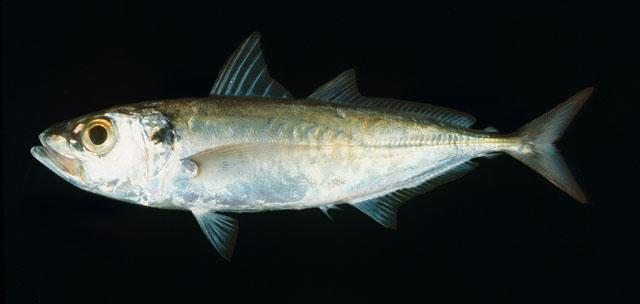Mulut: (19, 117, 67, 189)
Sirip Anal: (352, 155, 482, 231)
Sirip Dada: (178, 132, 310, 184)
Sirip Ekor: (513, 76, 603, 208)
Sirip Perut: (182, 198, 242, 266)
Sirip Punggung: (212, 22, 472, 132)
